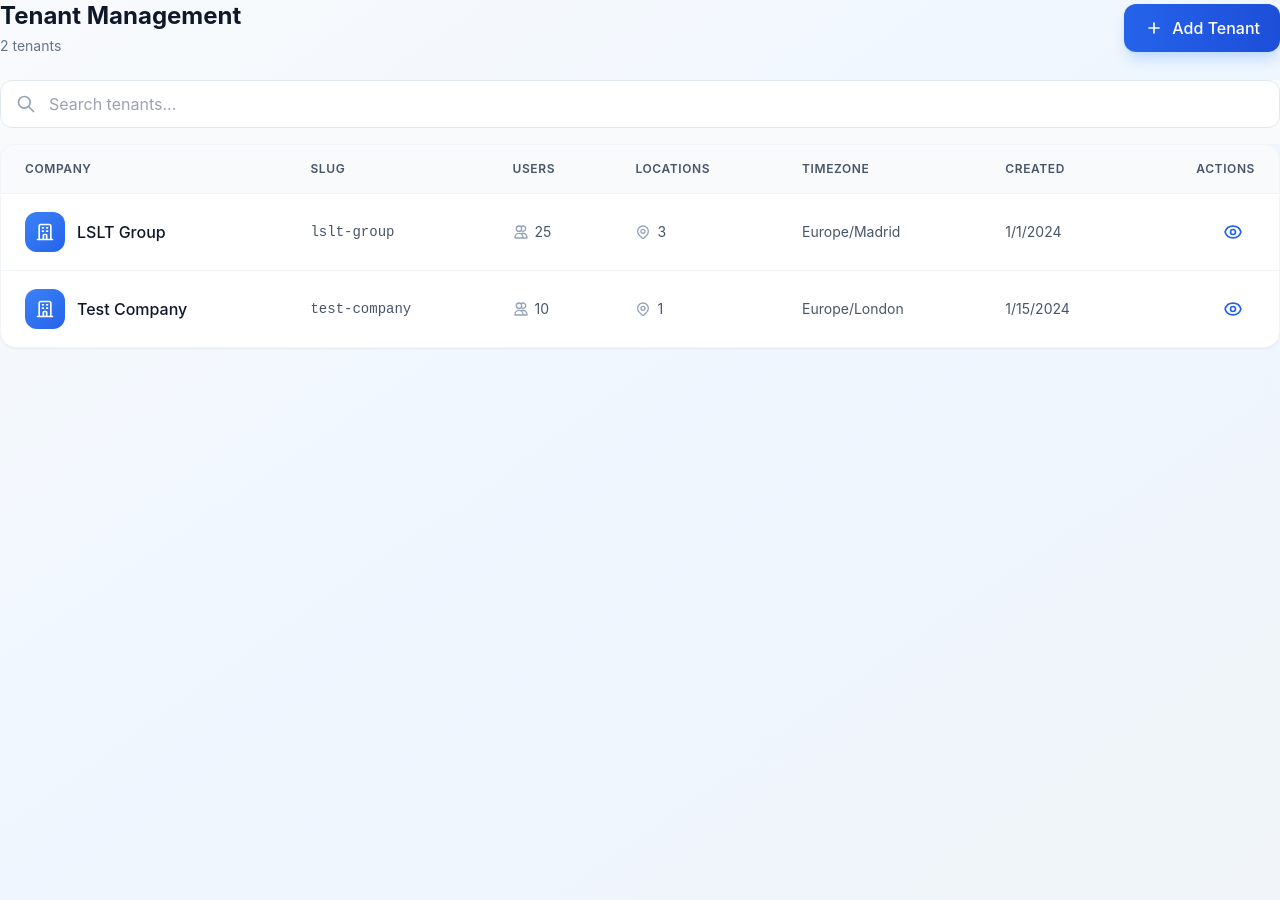
Test: TenantManagementPage › Create Tenant › validates required fields
Click the button "Add Tenant".
click(1202, 28)  # box 1124,4 -> 1279,52
(page scrolled)
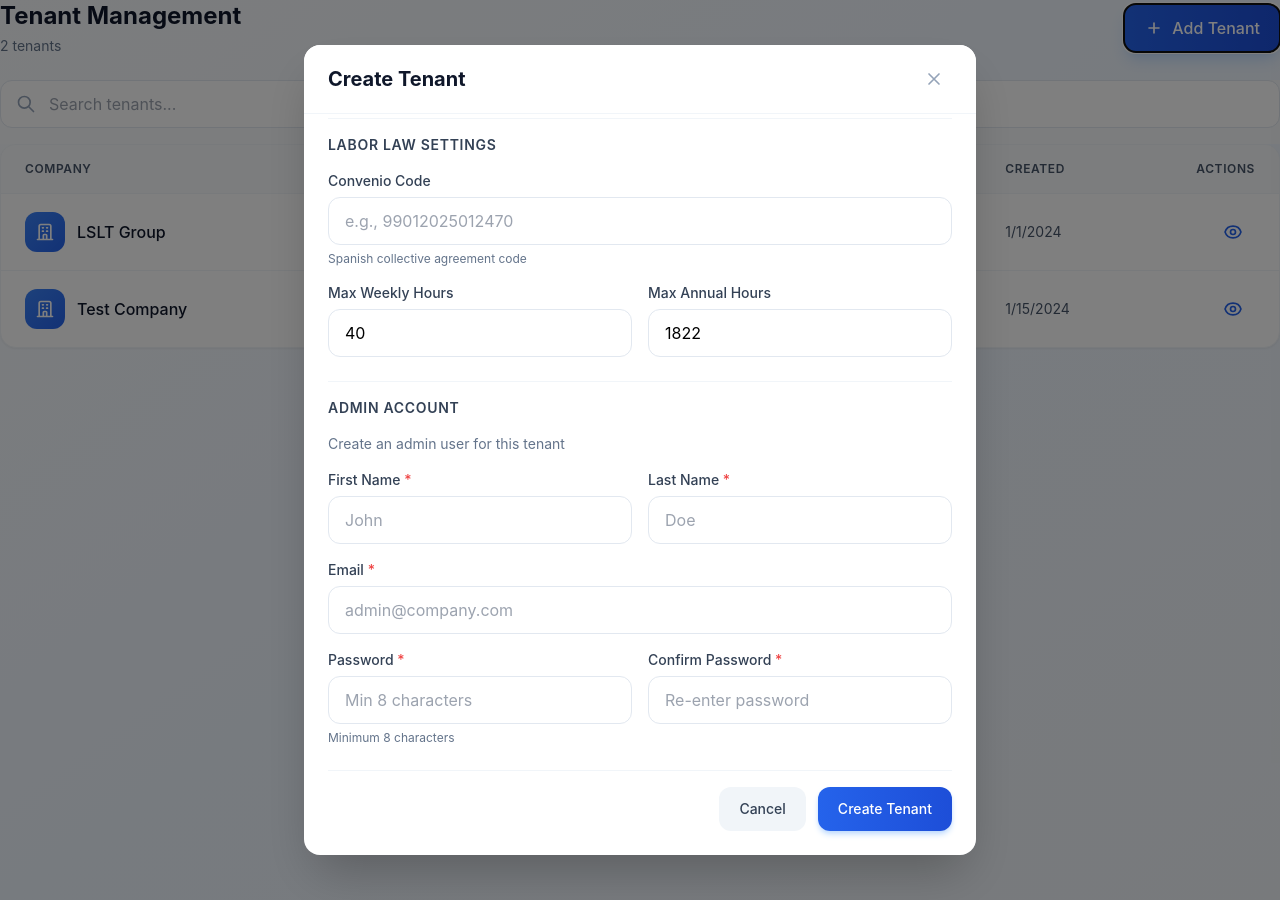
Check: the dialog is shown, box 304,45 -> 976,855
Click the button "Create Tenant".
click(885, 809)  # box 818,787 -> 952,831
(page scrolled)
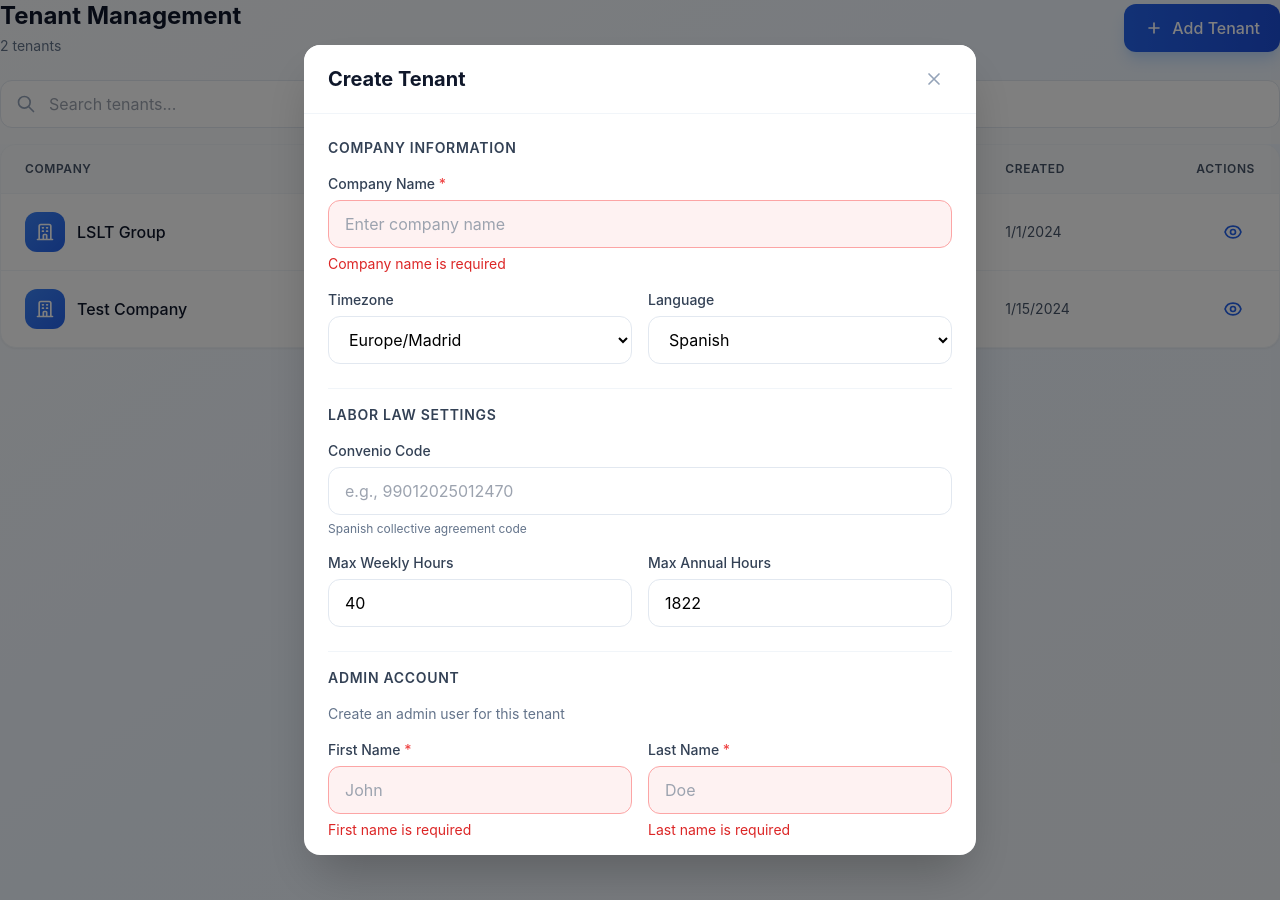
Check: the text "Company name is required" is shown, box 328,255 -> 506,272
